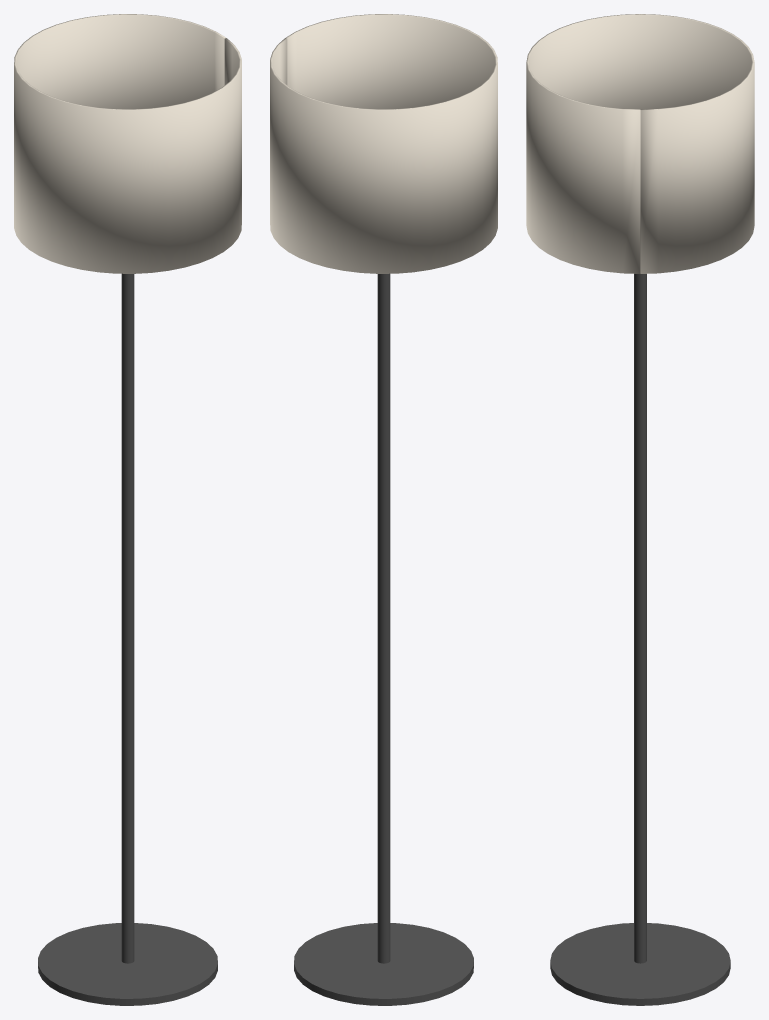
Rendered from mo_floor_lamp.glb.
3 renders of one model, left to right at view 1: azimuth 30°, elevation 25°; view 2: azimuth 150°, elevation 25°; view 3: azimuth 270°, elevation 25°, orthographic.
Visible parts, largest first — view 1: shade, base, stem; view 2: shade, base, stem; view 3: shade, base, stem.
Part boxes in pixels (box(x1,y1,x2,y2)): shade: box(14, 14, 241, 273); base: box(38, 923, 217, 1005); stem: box(121, 273, 134, 963); shade: box(270, 14, 497, 273); base: box(294, 923, 473, 1005); stem: box(377, 273, 390, 963); shade: box(526, 14, 754, 273); base: box(550, 923, 730, 1005); stem: box(634, 274, 646, 963).
Size of the model in its own units: 0.354 by 1.55 by 0.354.
